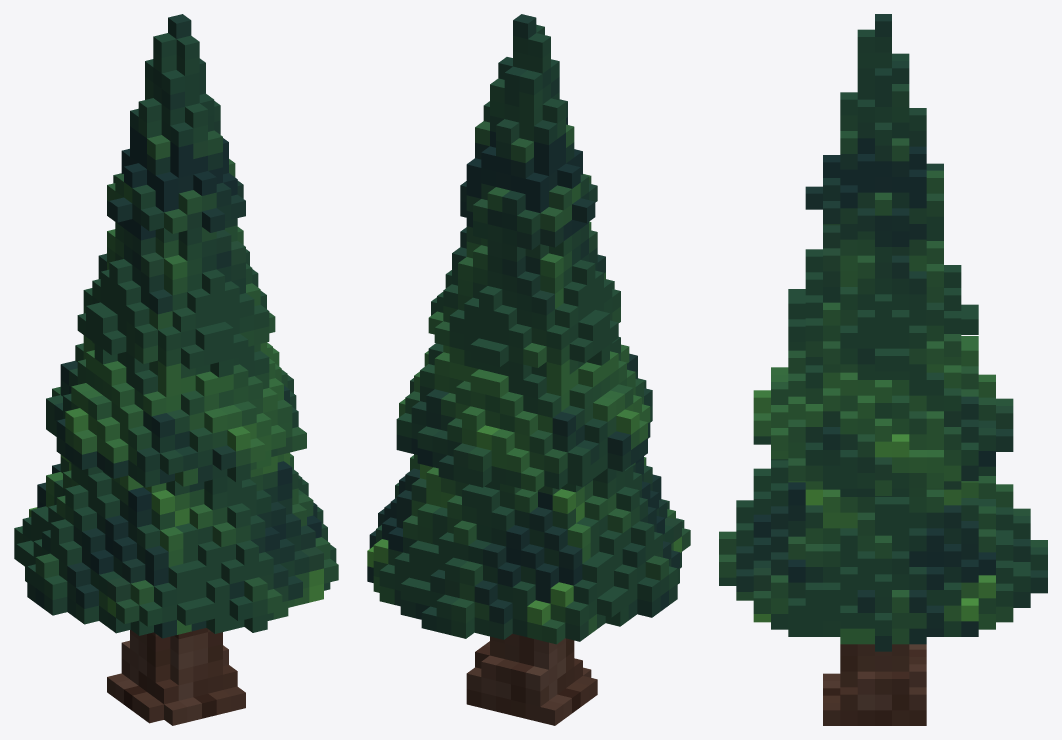
The model's file is Conifer5.fbx.
The picture shows the model from 3 angles, left to right: view 1: azimuth 30°, elevation 25°; view 2: azimuth 150°, elevation 25°; view 3: azimuth 270°, elevation 25°; orthographic projection. The views are drawn at different scales.
Parts seen in each view (by area): view 1: Conifer5; view 2: Conifer5; view 3: Conifer5.
Boxes of the visible parts, x1,y1,x2,y2 form: Conifer5: (14,14,338,725); Conifer5: (367,14,690,725); Conifer5: (719,14,1047,725).
Bounding box in the file's own units: 1.9 × 4.4 × 1.9.
